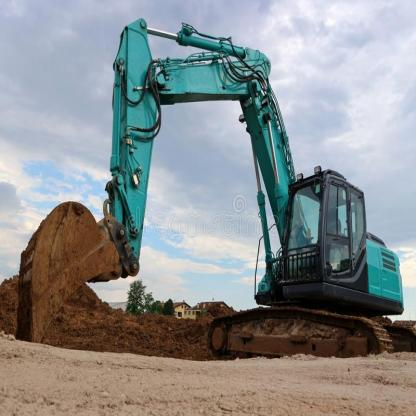excavator: (14, 15, 414, 377)
